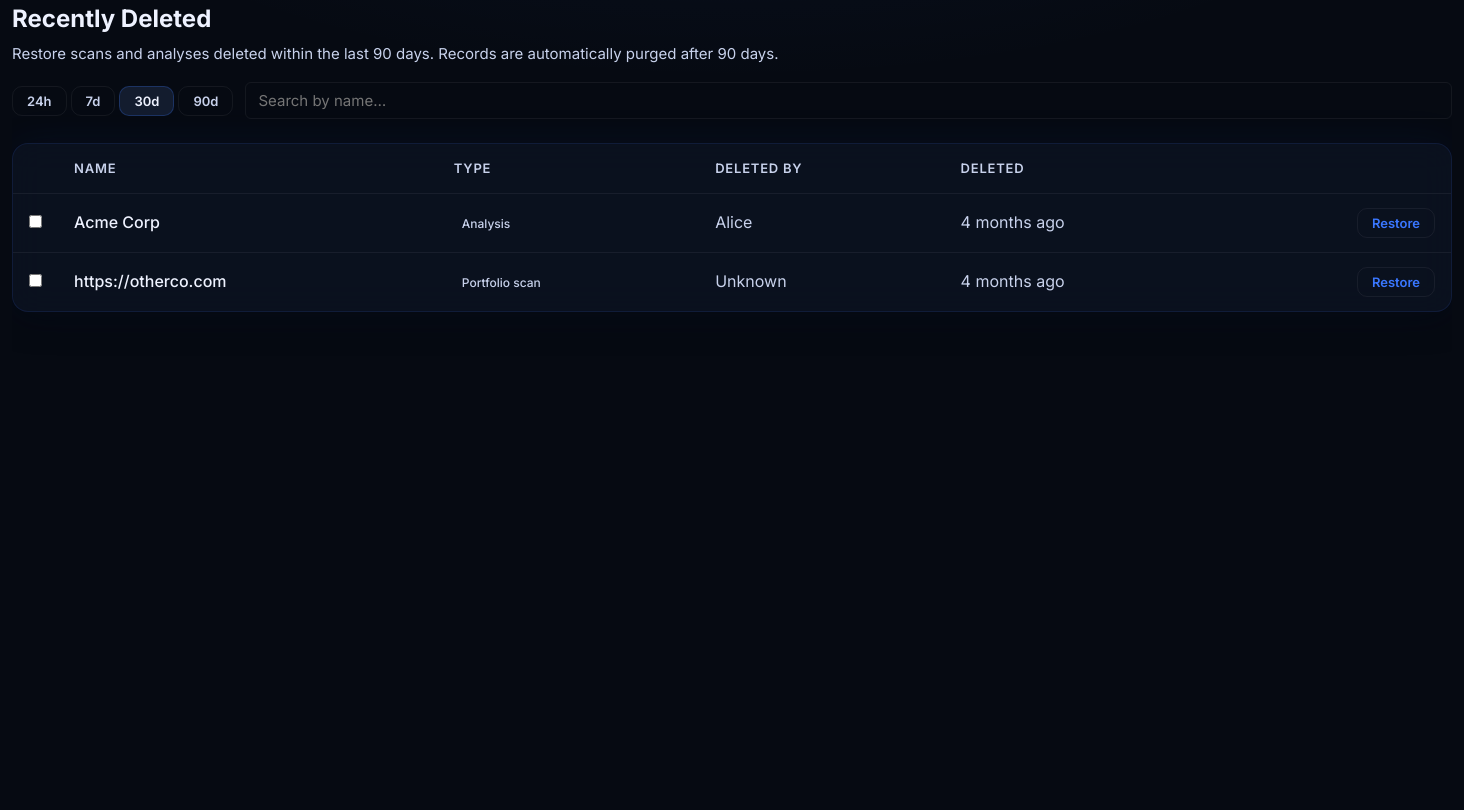
Test: RecentlyDeletedView › partial failure (mixed restored + ttl_expired) shows an error toast with the count breakdown
Click the checkbox named "Select Acme Corp": {"x": 36, "y": 222} [29,215,42,228]
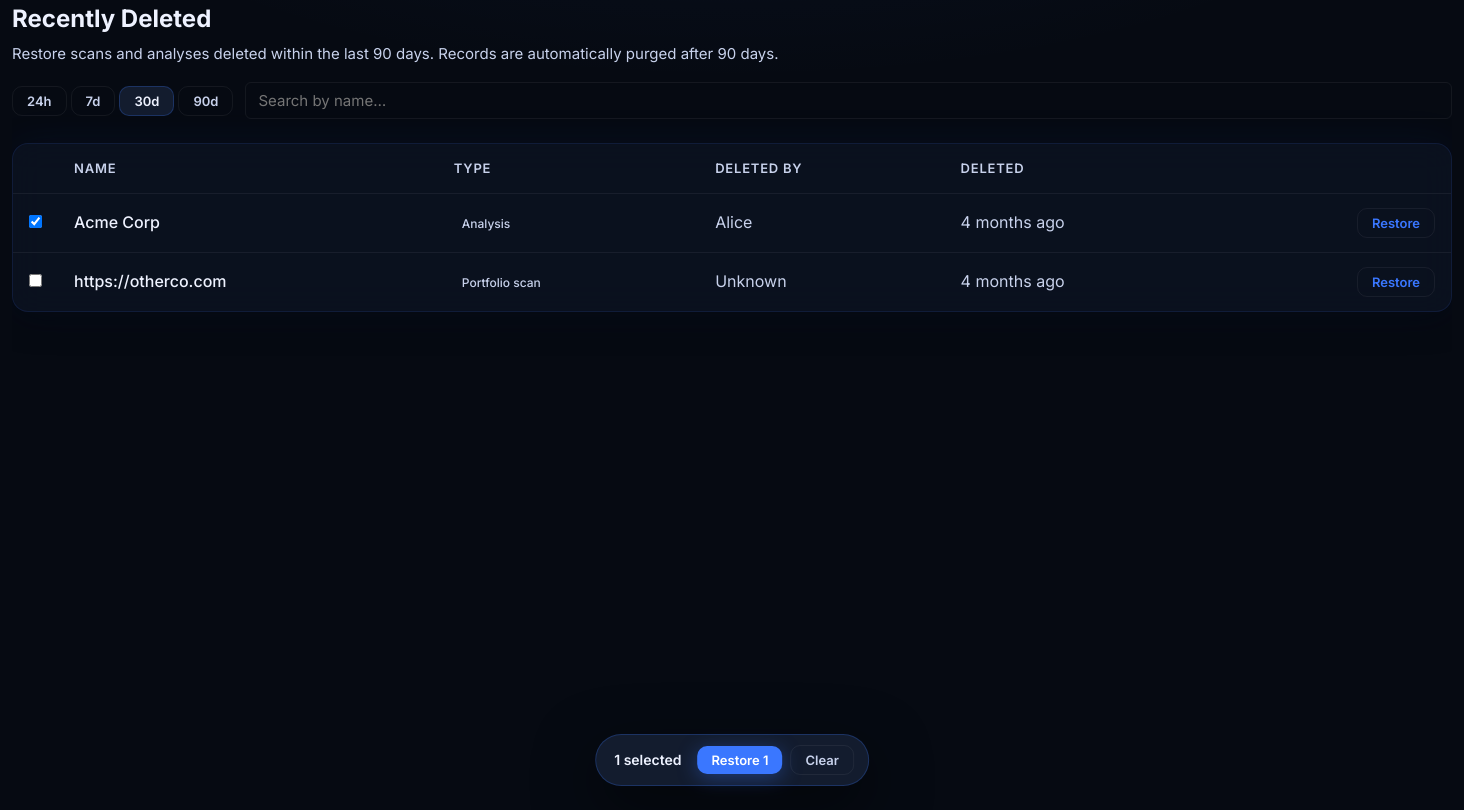
Click the checkbox named "Select https://otherco.com": {"x": 36, "y": 281} [29,274,42,287]
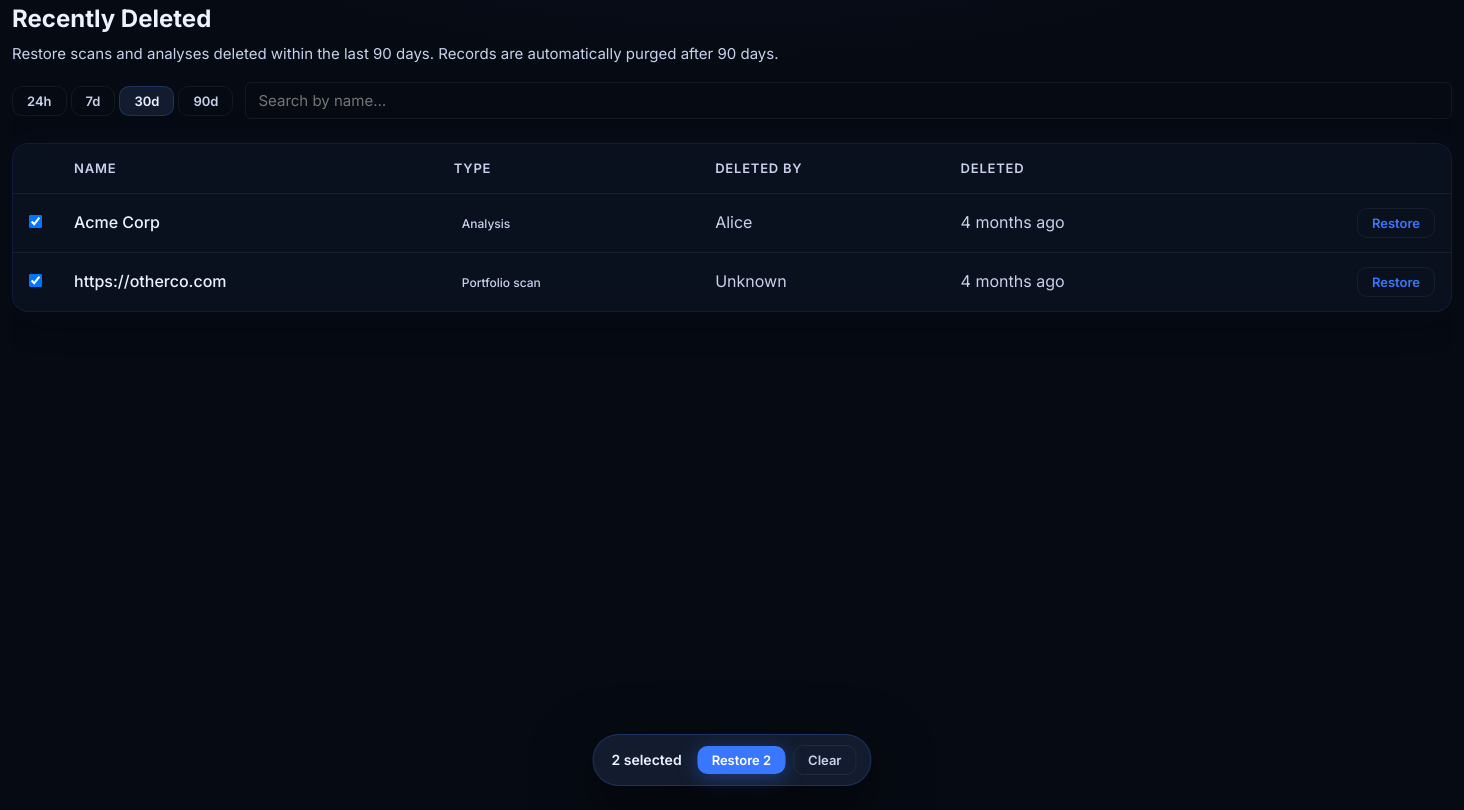
Click the button with aria-label "Restore 2 selected records": {"x": 741, "y": 760} [698,746,785,774]
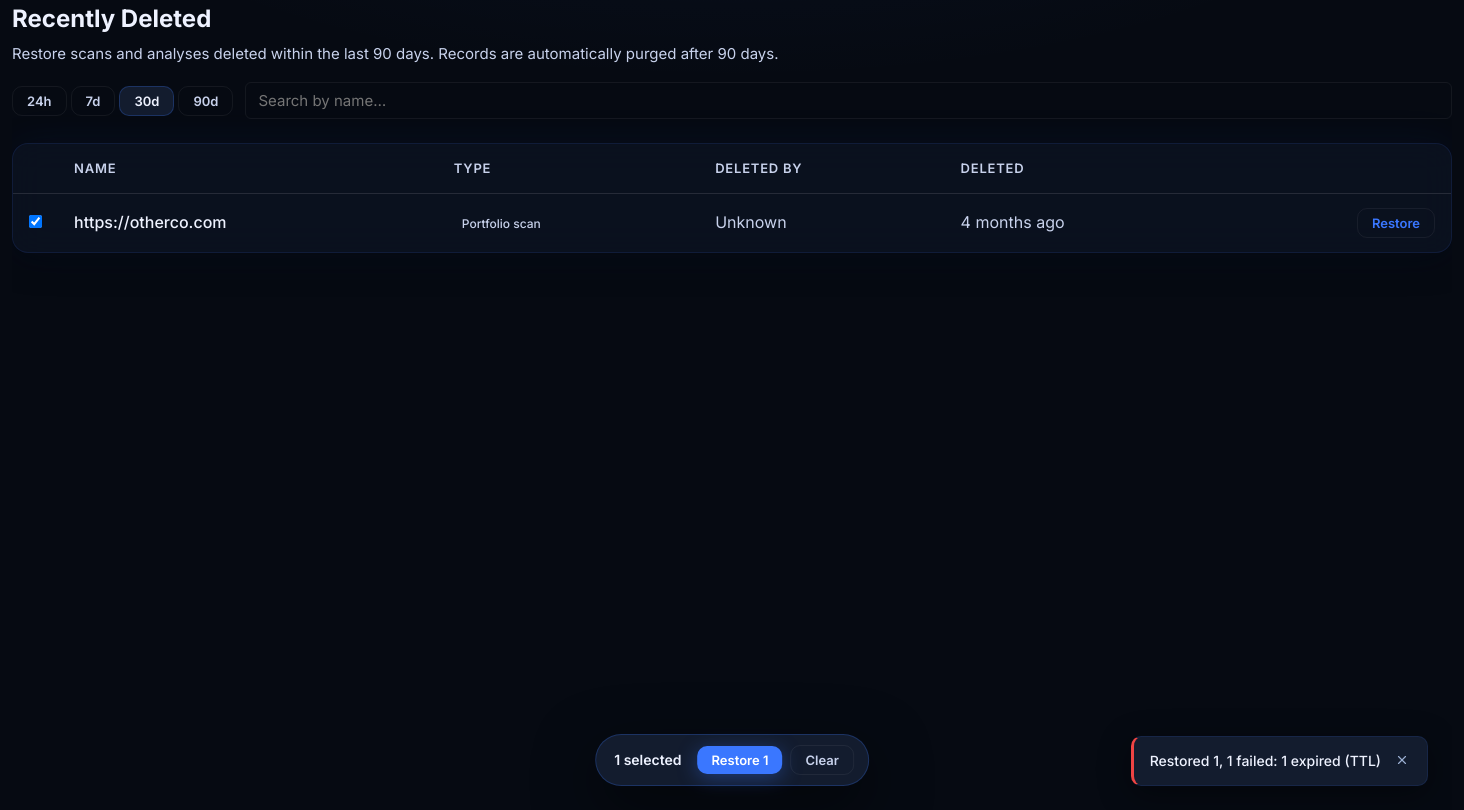
Expected: the text "Restored 1, 1 failed: 1 expired (TTL)" is shown, [1150,751,1381,771]
